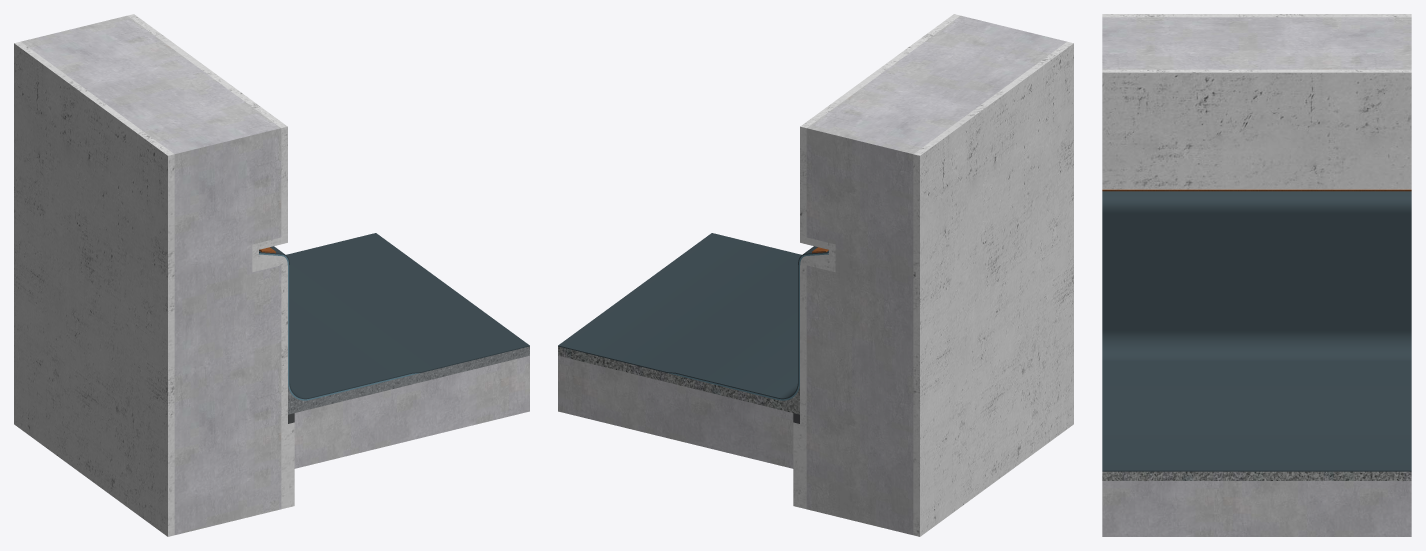
Rendered from coating-parapet-flashing.glb.
The picture shows the model from 3 angles, left to right: view 1: azimuth 30°, elevation 25°; view 2: azimuth 150°, elevation 25°; view 3: azimuth 270°, elevation 25°; orthographic projection.
Parts seen in each view (by area): view 1: 外侧抹灰, 女儿墙墙体, 涂膜防水层, 屋面结构板, 水泥砂浆抹灰, 屋面找平基层; view 2: 外侧抹灰, 女儿墙墙体, 涂膜防水层, 屋面结构板, 水泥砂浆抹灰, 屋面找平基层; view 3: 涂膜防水层, 水泥砂浆抹灰, 屋面结构板, 女儿墙墙体, 屋面找平基层, 外侧抹灰, 压条.
Part boxes in pixels (<box>): 外侧抹灰: <box>14,41,174,536</box>; 女儿墙墙体: <box>21,15,281,534</box>; 涂膜防水层: <box>259,233,529,399</box>; 屋面结构板: <box>294,355,529,468</box>; 水泥砂浆抹灰: <box>128,14,294,509</box>; 屋面找平基层: <box>288,346,529,414</box>; 外侧抹灰: <box>913,41,1073,536</box>; 女儿墙墙体: <box>806,15,1066,534</box>; 涂膜防水层: <box>558,233,828,399</box>; 屋面结构板: <box>558,355,793,468</box>; 水泥砂浆抹灰: <box>793,14,959,509</box>; 屋面找平基层: <box>558,346,799,414</box>; 涂膜防水层: <box>1102,191,1411,471</box>; 水泥砂浆抹灰: <box>1102,69,1411,189</box>; 屋面结构板: <box>1102,481,1411,536</box>; 女儿墙墙体: <box>1102,17,1411,69</box>; 屋面找平基层: <box>1102,471,1411,480</box>; 外侧抹灰: <box>1102,14,1411,17</box>; 压条: <box>1102,189,1411,191</box>.
Size of what is drawn, in the model's own units: 0.815 by 0.82 by 0.6.
Materials: 11 (7 with a texture image).
